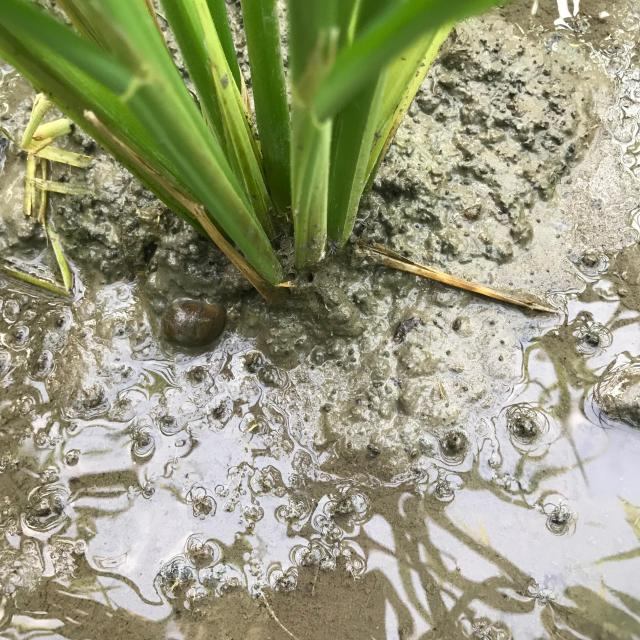rice bug -hama padi-: (130, 272, 256, 372)
